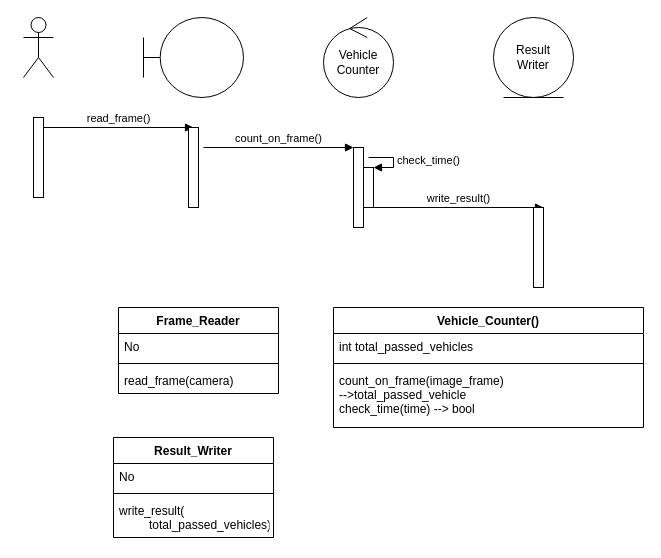
The diagram is 661 pixels wide and 558 high, and some of its shapes have lost their labels. The centre of each missing label's shape, as x and y in pixels:
"Camera" goes at point (38, 47).
"Frame Reader" goes at point (193, 57).
